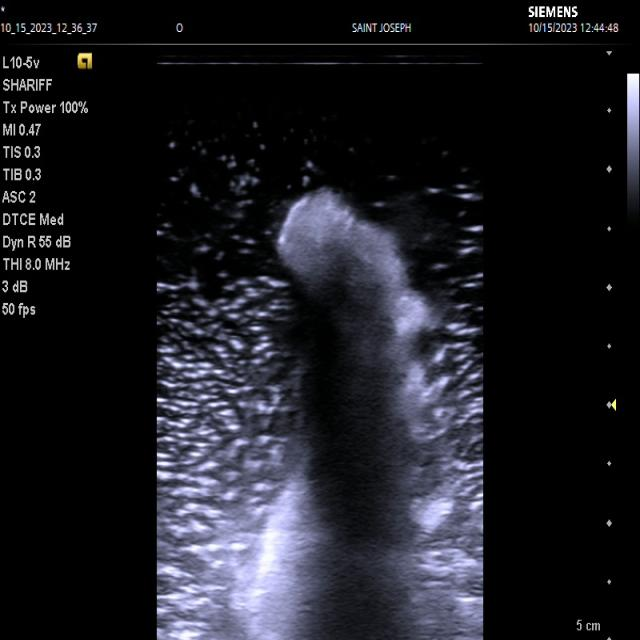tissue: (244, 188, 440, 640)
